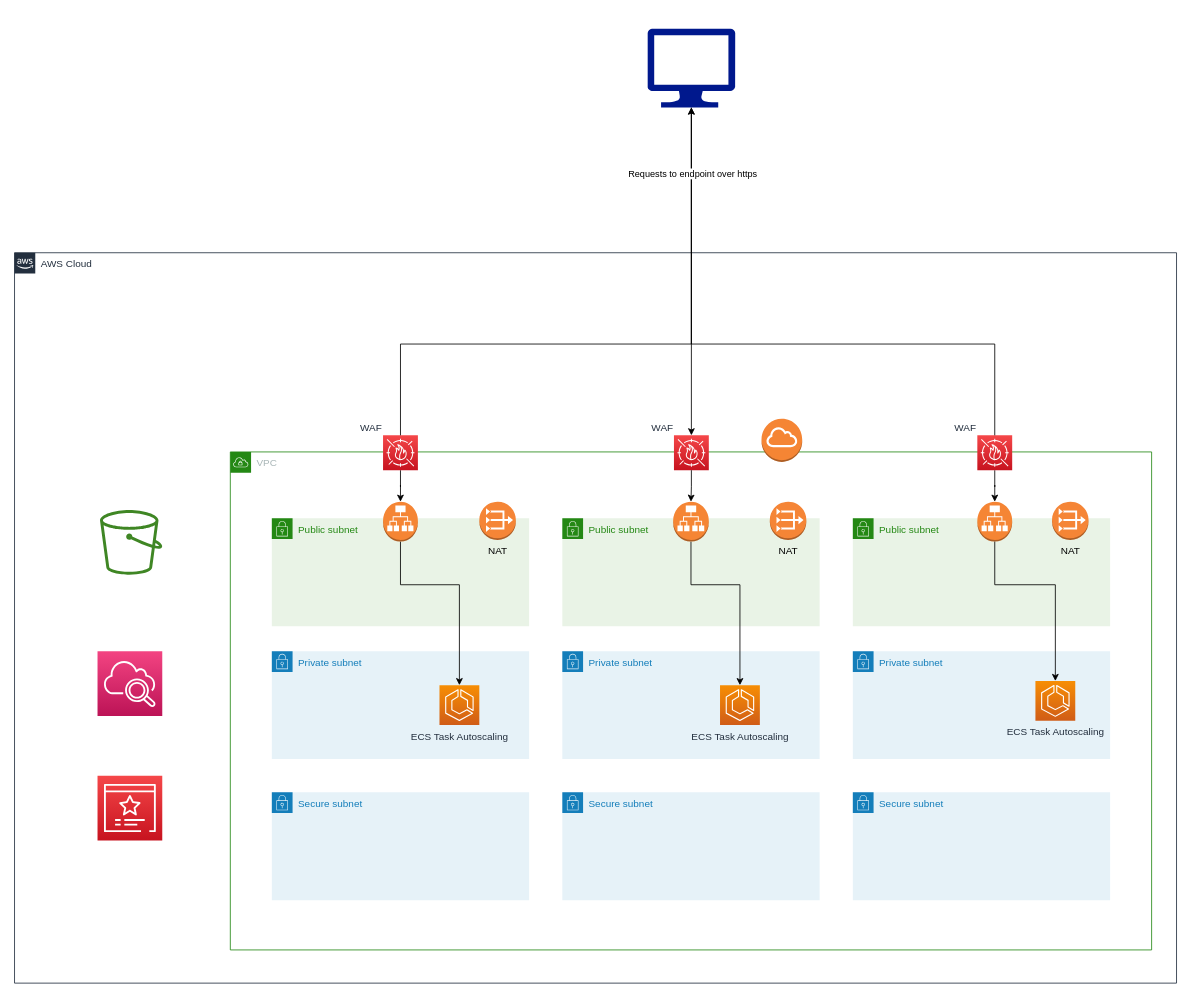
The diagram is 1191 pixels wide and 998 high, and some of its shapes have lost their labels. Here are the shapes that lost their labels. From the top down, the centre of each, then its label:
At point 691,67: "End User".
At point 781,440: "Internet Gateway".
At point 131,542: "ALB Access logs and Waf logs to s3".
At point 129,683: "All logging to cloudwatch from ECS".
At point 129,807: "AWS Cert Manager for ALB".
